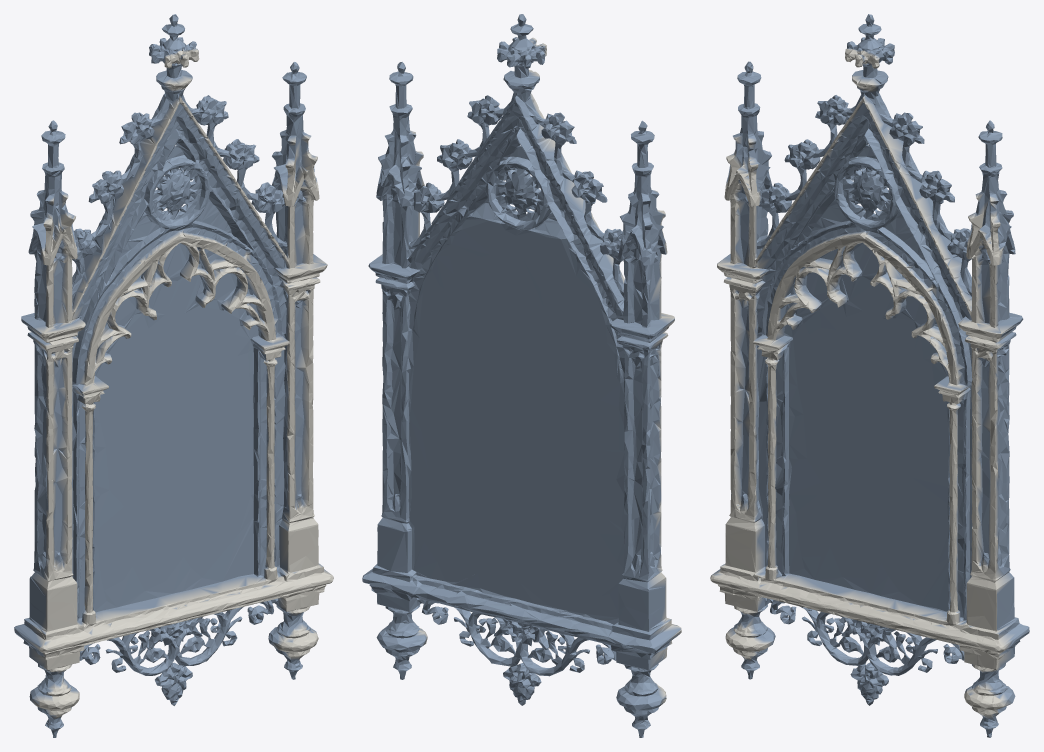
The model's file is victorian-frame.glb.
3 renders of one model, left to right at view 1: azimuth 30°, elevation 25°; view 2: azimuth 150°, elevation 25°; view 3: azimuth 330°, elevation 25°, orthographic.
Parts seen in each view (by area): view 1: world; view 2: world; view 3: world.
Part boxes in pixels (<box>): world: <box>14,14,333,737</box>; world: <box>362,14,681,737</box>; world: <box>710,14,1029,737</box>.
Bounding box in the file's own units: 0.8422 × 1.9 × 0.1546.
